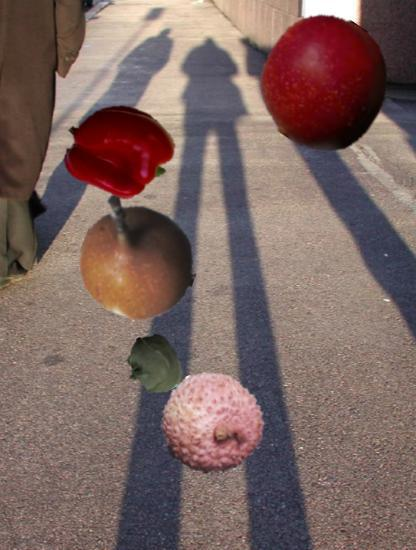Granadilla: (80, 203, 197, 320)
Kohlrabi: (122, 335, 183, 396)
Lychee: (159, 370, 265, 476)
Nectarine: (258, 16, 392, 150)
Pepper: (66, 100, 169, 203)
